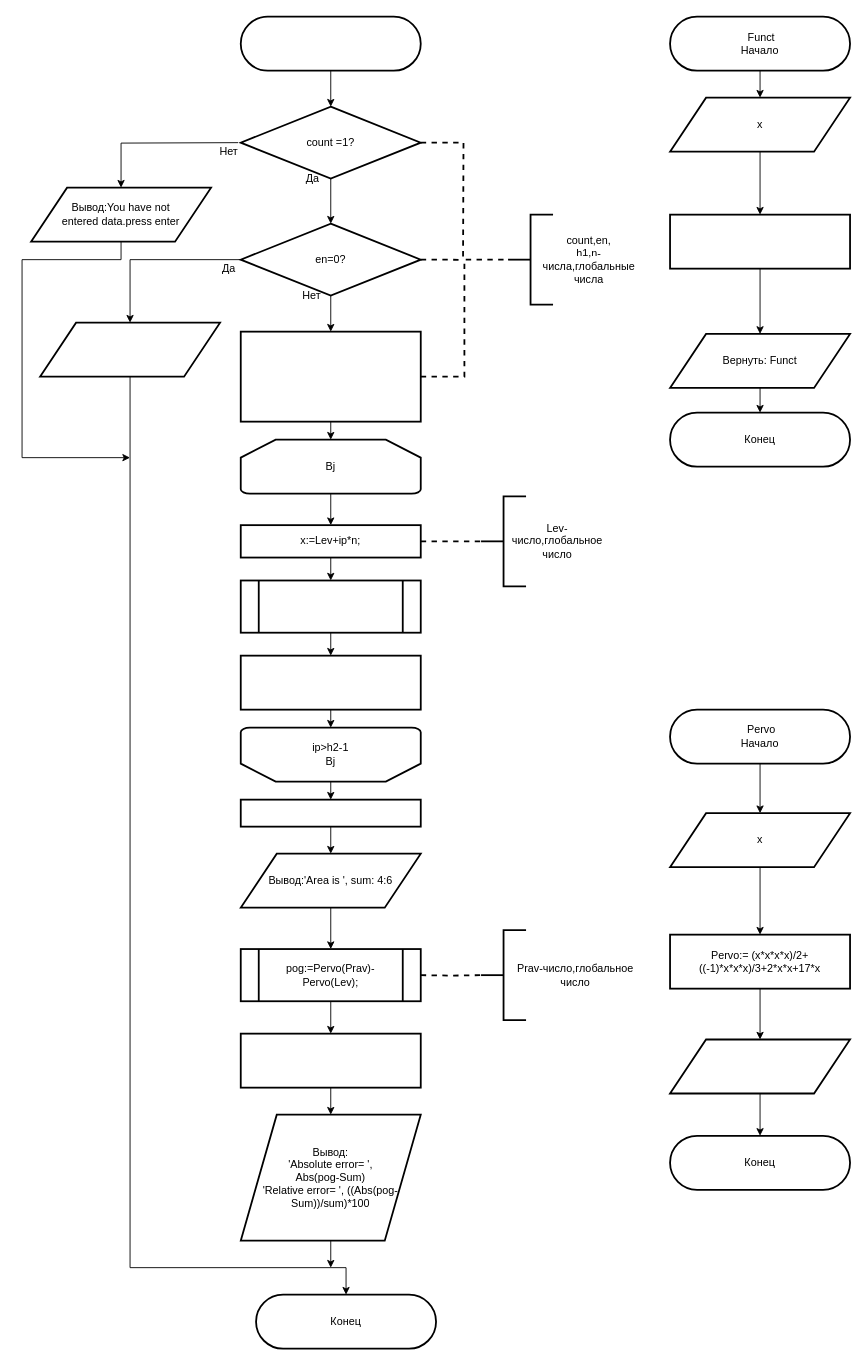
This 867x1364 diagram has some shape labels left out. The centre of each missing label's shape, as x and y in pixels:
"en:=1;" goes at (330,1060).
"Funct:= 2*x*x*x+(-1)*x*x+4*x+17" goes at (759,241).
"h:= h1 / n; h2:=Round(h); Textcolor (15); clrscr; f:=0; sum:=0; ip:=0;" goes at (330,376).
"prthd Начало" goes at (330,43).
"sr1:=Funct(x);" goes at (330,606).
"sum:=sum*n;" goes at (330,812).
"sum:=sum+sr1; ip:=ip+1;" goes at (330,682).
"Вернуть: Pervo" goes at (759,1066).
"Вывод: The square error is equal to zero" goes at (129,349).
